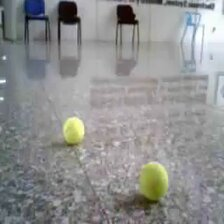tennis: (138, 160, 168, 200), (62, 116, 85, 145)
